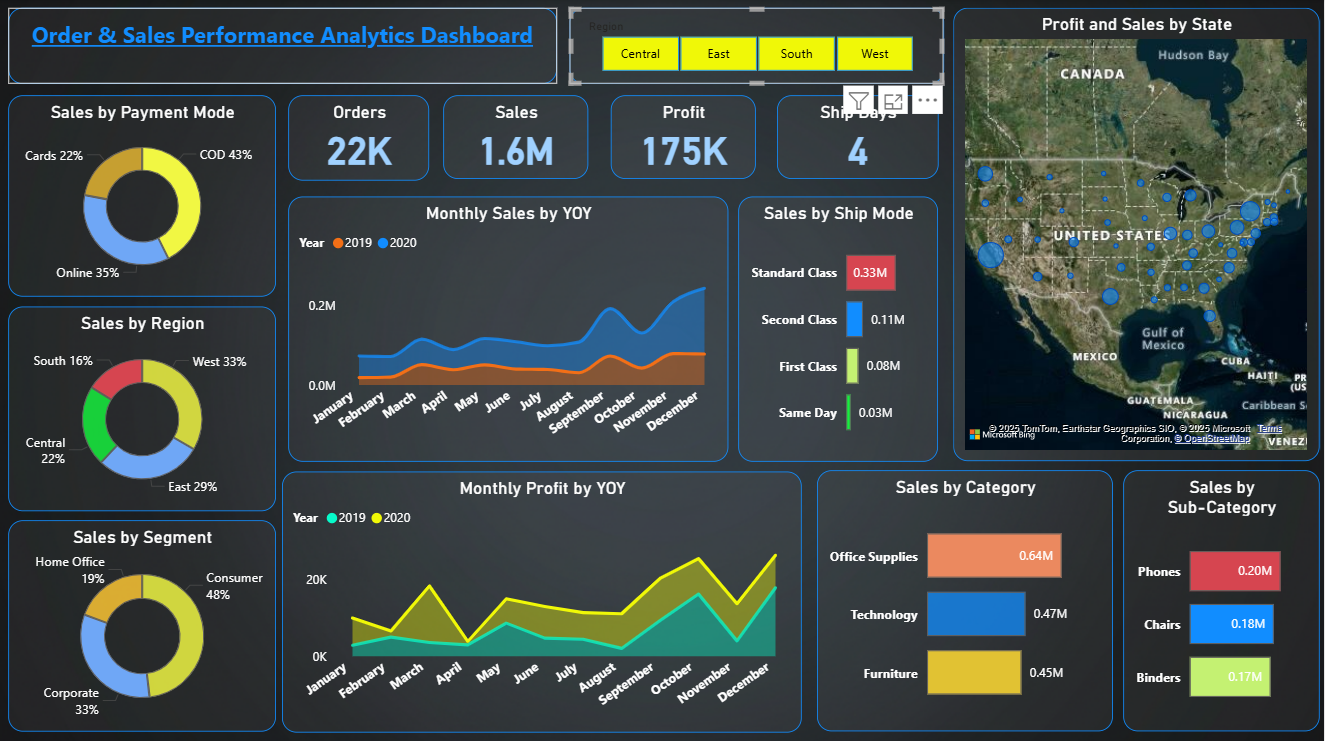

What the dashboard file says about the page in this screenshot:
{"tool":"powerbi","page":{"name":"Dashboard","canvas":[1280,720],"ordinal":0},"visuals":[{"type":"clusteredBarChart","title":"Sales by Category","fields":{"Category":["SuperStore_Sales_Dataset.Category"],"Y":["Sum(SuperStore_Sales_Dataset.Sales)"]},"box":[791.4,454.8,285.9,252.1],"z":0},{"type":"clusteredBarChart","title":"Sales by Sub-Category","fields":{"Category":["SuperStore_Sales_Dataset.Sub-Category"],"Y":["Sum(SuperStore_Sales_Dataset.Sales)"]},"box":[1087,454.8,189.4,252.1],"z":1000},{"type":"clusteredBarChart","title":"Sales by Ship Mode","fields":{"Category":["SuperStore_Sales_Dataset.Ship Mode"],"Y":["Sum(SuperStore_Sales_Dataset.Sales)"]},"box":[715.4,190.6,193,255.8],"z":2000},{"type":"stackedAreaChart","title":"Monthly Sales by YOY","fields":{"Y":["Sum(SuperStore_Sales_Dataset.Sales)"],"Category":["SuperStore_Sales_Dataset.Order Date.Variation.Date Hierarchy.Month","SuperStore_Sales_Dataset.Order Date.Variation.Date Hierarchy.Day"],"Series":["SuperStore_Sales_Dataset.Order Date.Variation.Date Hierarchy.Year"]},"box":[281.1,190.6,424.7,255.8],"z":3000},{"type":"stackedAreaChart","title":"Monthly Profit by YOY","fields":{"Category":["SuperStore_Sales_Dataset.Order Date.Variation.Date Hierarchy.Month","SuperStore_Sales_Dataset.Order Date.Variation.Date Hierarchy.Day"],"Series":["SuperStore_Sales_Dataset.Order Date.Variation.Date Hierarchy.Year"],"Y":["Sum(SuperStore_Sales_Dataset.Profit)"]},"box":[275.1,456,501.9,252.1],"z":4000},{"type":"map","title":"Profit and Sales by State","fields":{"Category":["SuperStore_Sales_Dataset.State"],"Size":["Sum(SuperStore_Sales_Dataset.Sales)"]},"box":[922.9,8.4,353.5,437.9],"z":5000},{"type":"donutChart","title":"Sales by Segment","fields":{"Category":["SuperStore_Sales_Dataset.Segment"],"Y":["Sum(SuperStore_Sales_Dataset.Sales)"]},"box":[10.9,503.1,258.2,203.9],"z":6000},{"type":"donutChart","title":" Sales by Payment Mode","fields":{"Category":["SuperStore_Sales_Dataset.Payment Mode"],"Y":["Sum(SuperStore_Sales_Dataset.Sales)"]},"box":[10.9,92.9,258.2,194.2],"z":7000},{"type":"donutChart","title":" Sales by Region","fields":{"Category":["SuperStore_Sales_Dataset.Region"],"Y":["Sum(SuperStore_Sales_Dataset.Sales)"]},"box":[10.9,296.8,258.2,197.9],"z":8000},{"type":"slicer","fields":{"Values":["SuperStore_Sales_Dataset.Region"]},"box":[552.5,8.8,361.2,73.8],"z":9000},{"type":"textbox","title":"Super Store Sales Dashboard","box":[10.9,8.4,529.6,73.6],"z":10000},{"type":"card","title":"Sales","fields":{"Values":["Sum(SuperStore_Sales_Dataset.Sales)"]},"box":[430.7,92.9,139.9,80.8],"z":11000},{"type":"card","title":"Orders","fields":{"Values":["Sum(SuperStore_Sales_Dataset.Quantity)"]},"box":[281.1,92.9,136.3,82],"z":12000},{"type":"card","title":"Profit","fields":{"Values":["Sum(SuperStore_Sales_Dataset.Profit)"]},"box":[592.4,92.9,139.9,80.8],"z":13000},{"type":"card","title":"Ship Days","fields":{"Values":["Avg(SuperStore_Sales_Dataset.AvgDelivery)"]},"box":[752.8,92.9,155.6,80.8],"z":14000}]}

Visuals, with their boxes in screenshot pixels (x1, y1, x2, y2), scaled from the page's 1280x720 canvas onto the 1325x741 screenshot:
"Sales by Category" clusteredBarChart: detection(819, 468, 1115, 728)
"Sales by Sub-Category" clusteredBarChart: detection(1125, 468, 1321, 728)
"Sales by Ship Mode" clusteredBarChart: detection(741, 196, 940, 459)
"Monthly Sales by YOY" stackedAreaChart: detection(291, 196, 731, 459)
"Monthly Profit by YOY" stackedAreaChart: detection(285, 469, 804, 729)
"Profit and Sales by State" map: detection(955, 9, 1321, 459)
"Sales by Segment" donutChart: detection(11, 518, 279, 728)
" Sales by Payment Mode" donutChart: detection(11, 96, 279, 295)
" Sales by Region" donutChart: detection(11, 305, 279, 509)
slicer - SuperStore_Sales_Dataset.Region: detection(572, 9, 946, 85)
"Super Store Sales Dashboard" textbox: detection(11, 9, 560, 84)
"Sales" card: detection(446, 96, 591, 179)
"Orders" card: detection(291, 96, 432, 180)
"Profit" card: detection(613, 96, 758, 179)
"Ship Days" card: detection(779, 96, 940, 179)
